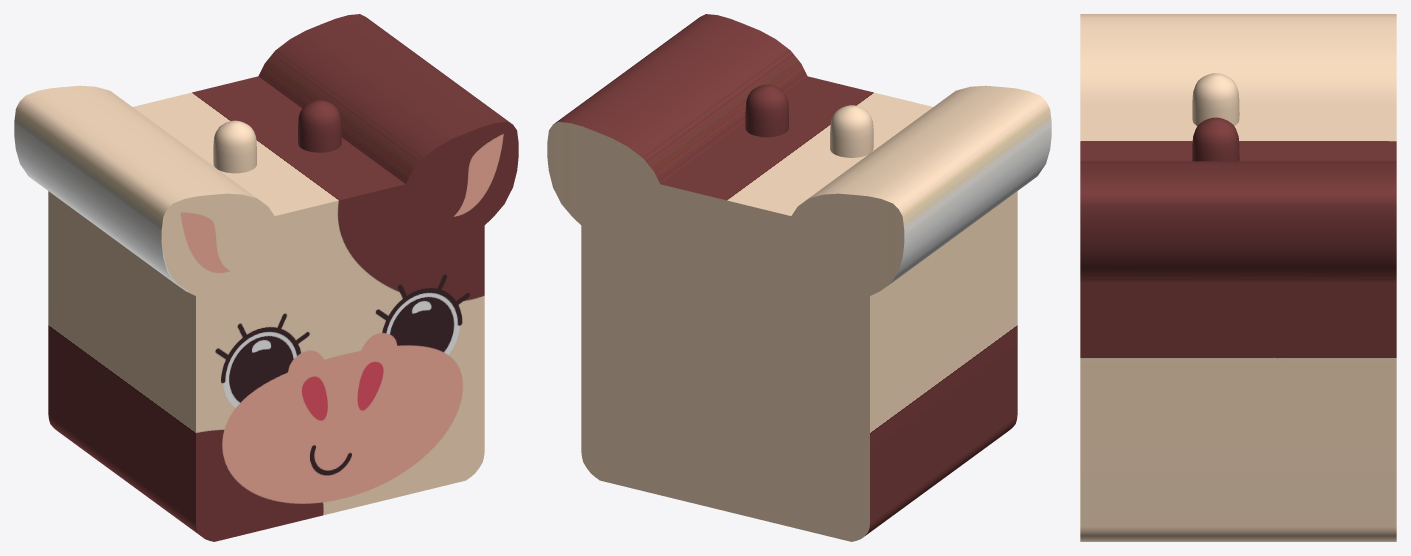
File: Cow.obj
The picture shows the model from 3 angles, left to right: view 1: azimuth 30°, elevation 25°; view 2: azimuth 150°, elevation 25°; view 3: azimuth 270°, elevation 25°; orthographic projection. The views are drawn at different scales.
Visible parts, largest first — view 1: Cow; view 2: Cow; view 3: Cow.
Part boxes in pixels (x1,y1,x2,y2): Cow: (14,14,518,541); Cow: (547,14,1051,541); Cow: (1080,14,1396,541).
Size of the model in its own units: 6.46 by 6.09 by 4.62.
